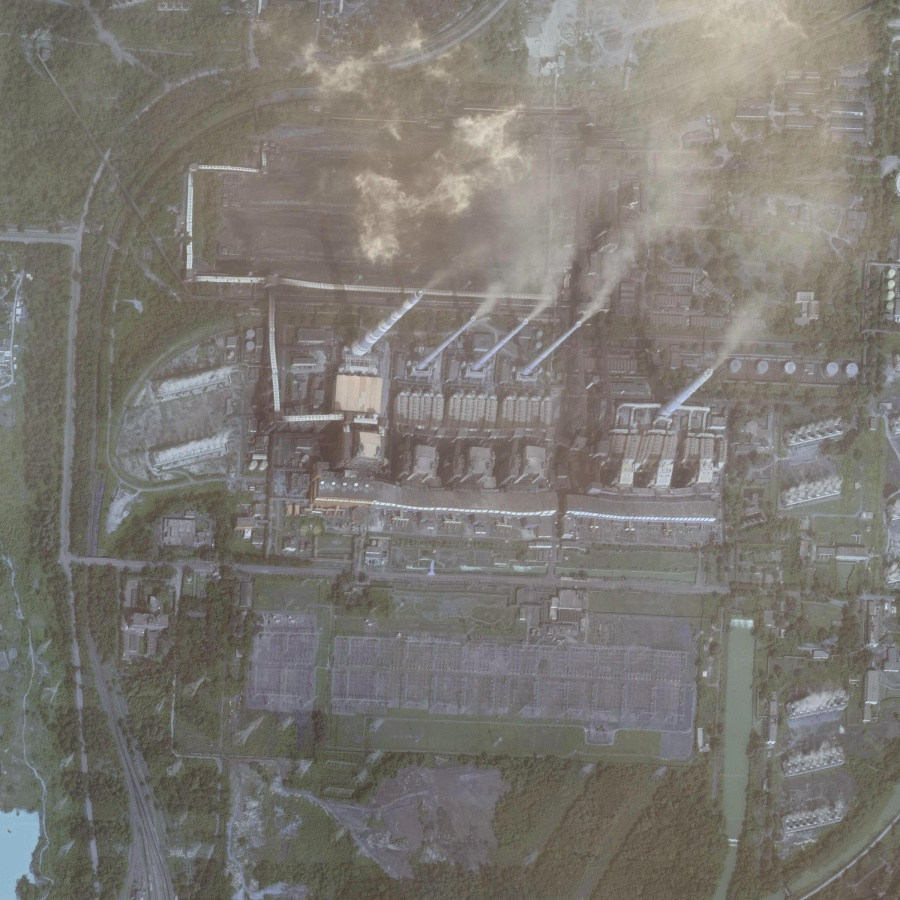PowerPlant: (191, 57, 752, 533)
